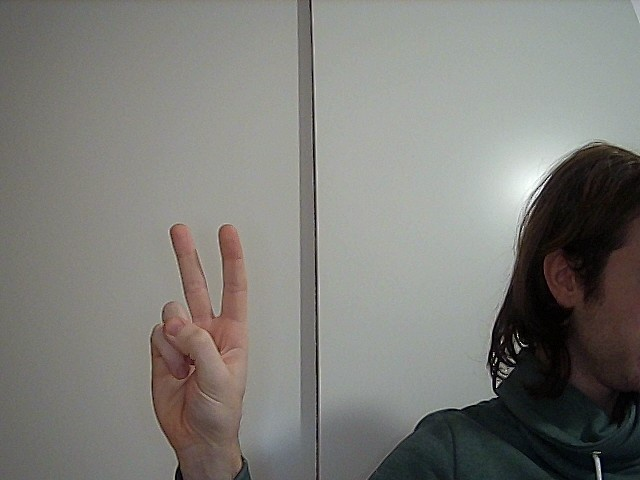v: (132, 218, 260, 457)
